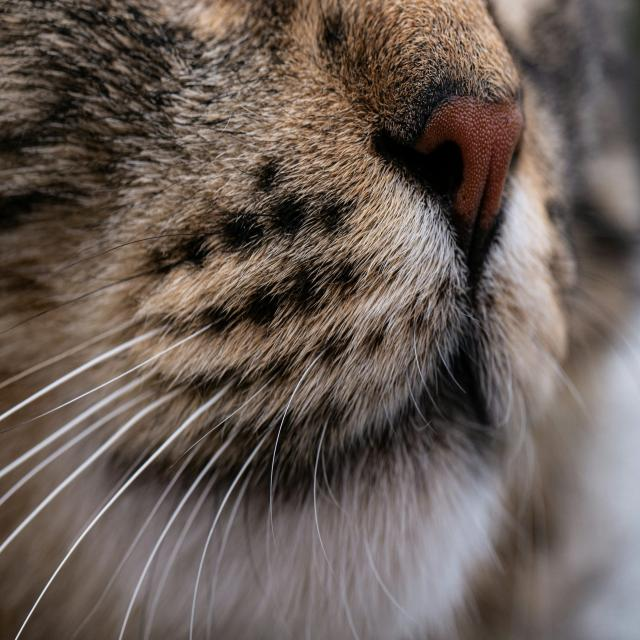da khoe manh: (83, 46, 496, 556)
